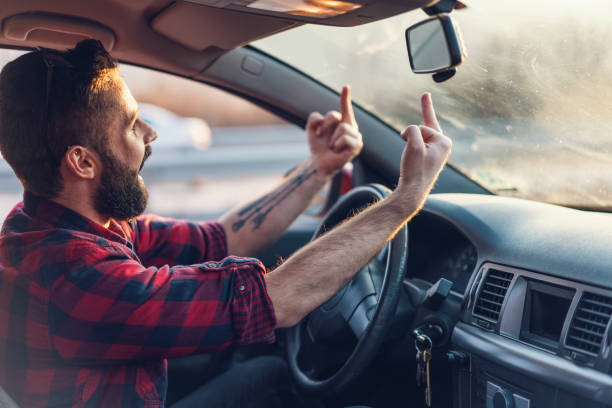insulting_gesture: (399, 91, 453, 198), (306, 84, 363, 165)
